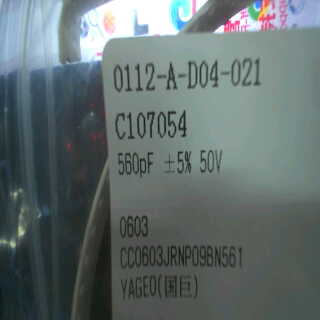560pF: (114, 146, 157, 180)
